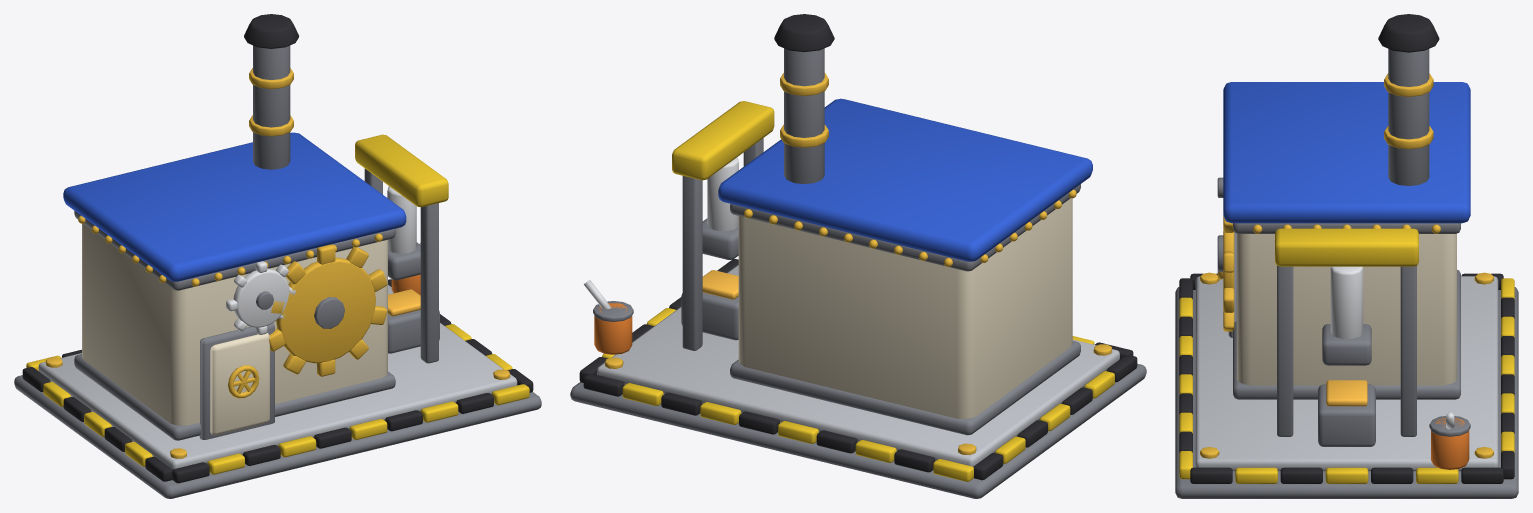
File: Blacksmith.glb
3 renders of one model, left to right at view 1: azimuth 30°, elevation 25°; view 2: azimuth 150°, elevation 25°; view 3: azimuth 270°, elevation 25°, orthographic. The views are drawn at different scales.
Parts seen in each view (by area): view 1: Blacksmith; view 2: Blacksmith; view 3: Blacksmith.
Boxes of the visible parts, x1,y1,x2,y2 form: Blacksmith: (14,14,541,498); Blacksmith: (570,14,1146,498); Blacksmith: (1175,14,1518,498).
Bounding box in the file's own units: 3.64 × 3.12 × 2.5.
